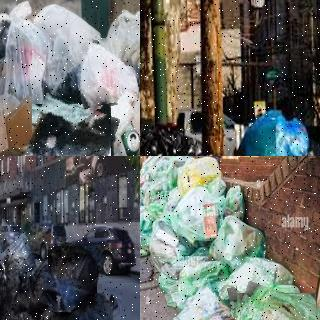Garbage: (27, 98, 115, 156), (74, 36, 138, 110), (43, 243, 102, 315), (222, 251, 297, 307), (229, 103, 307, 156), (206, 213, 268, 268), (145, 215, 197, 278), (168, 281, 247, 320), (228, 287, 320, 320), (167, 188, 220, 242), (175, 255, 234, 302), (47, 293, 115, 320), (140, 203, 163, 259)
